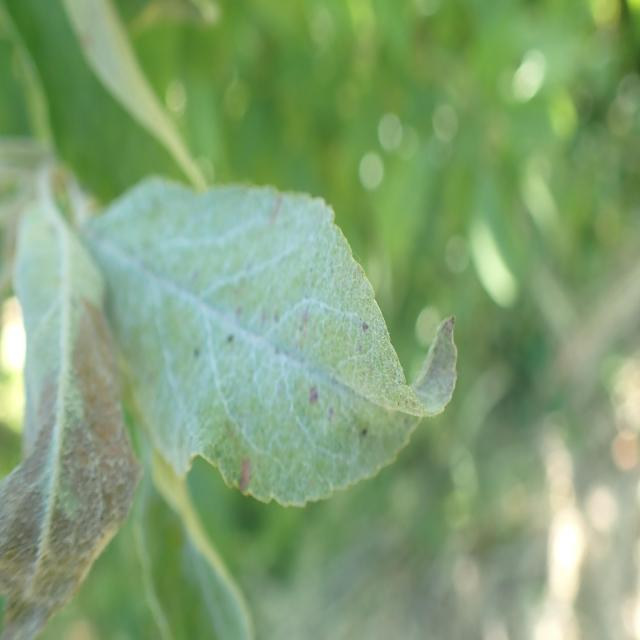Powdery_mildew: (79, 134, 468, 509), (0, 145, 139, 640)
